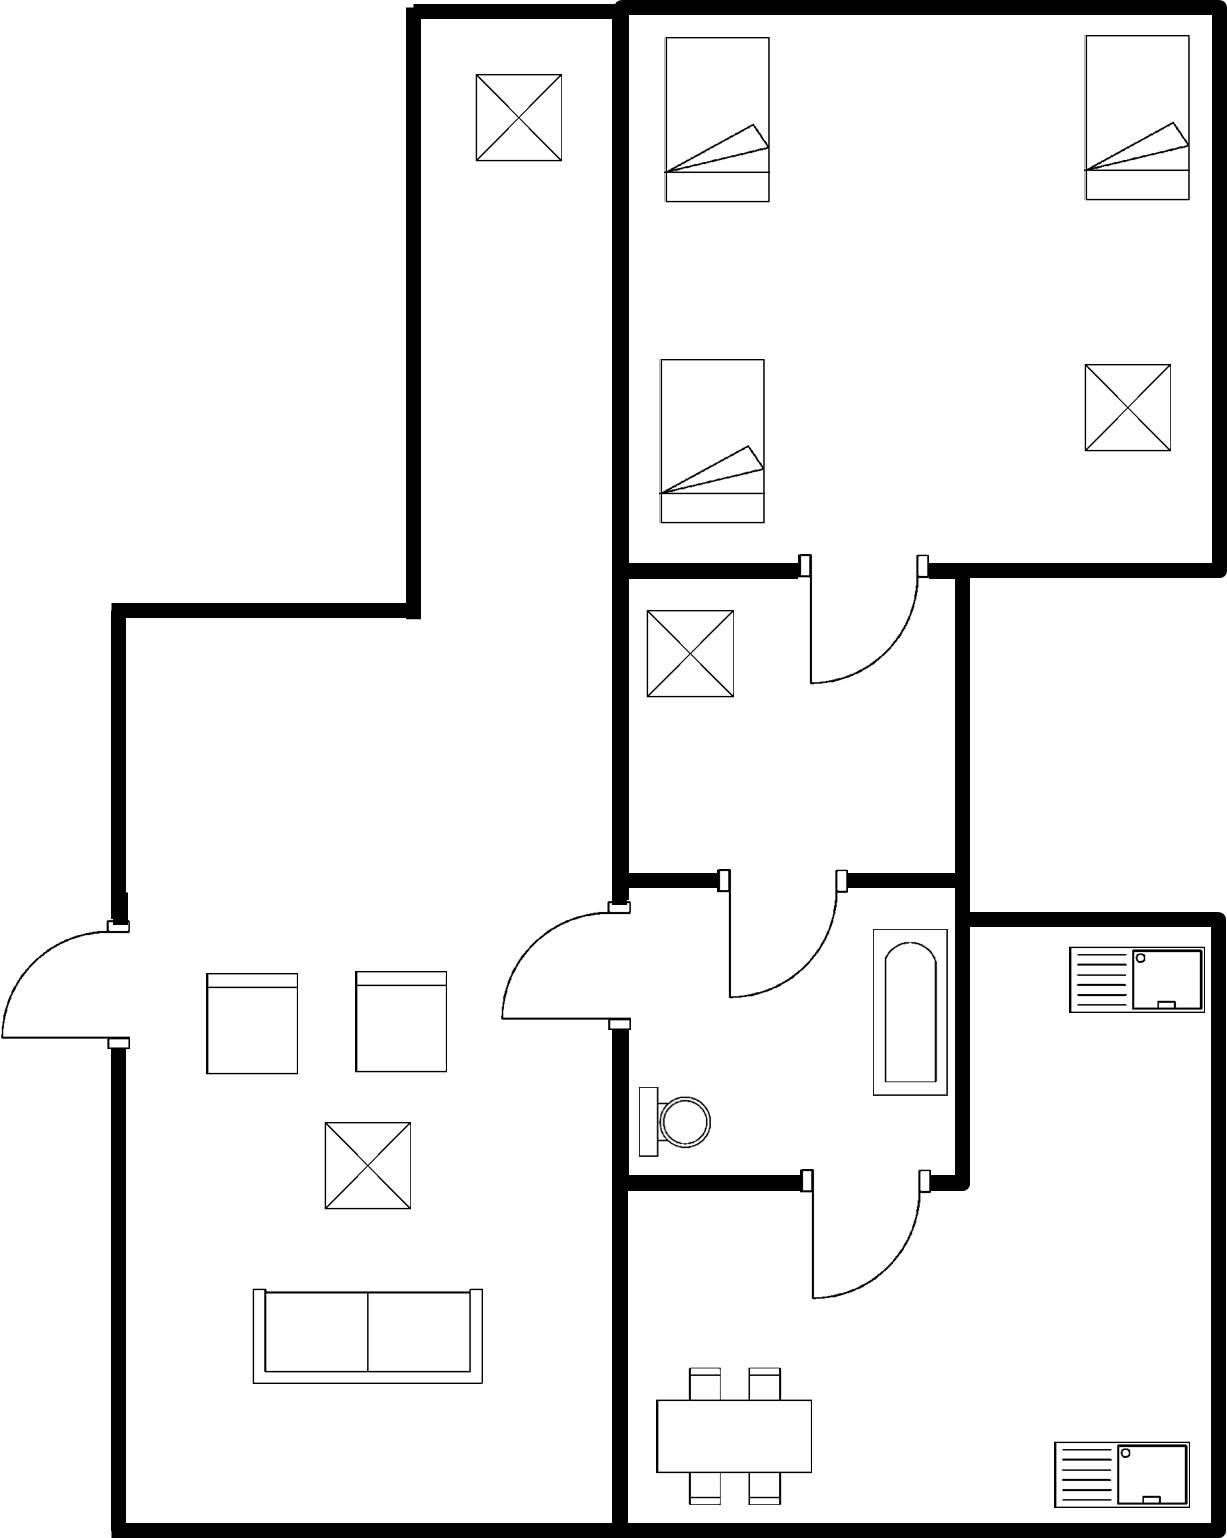bed: (649, 343, 774, 539), (1074, 23, 1197, 216), (654, 28, 783, 206)
dining_table: (646, 1358, 828, 1515)
sink: (1035, 1427, 1198, 1515), (1054, 936, 1212, 1022)
sofa: (237, 1281, 492, 1397)
toilet: (630, 1076, 719, 1169)
tub: (864, 916, 955, 1103)
